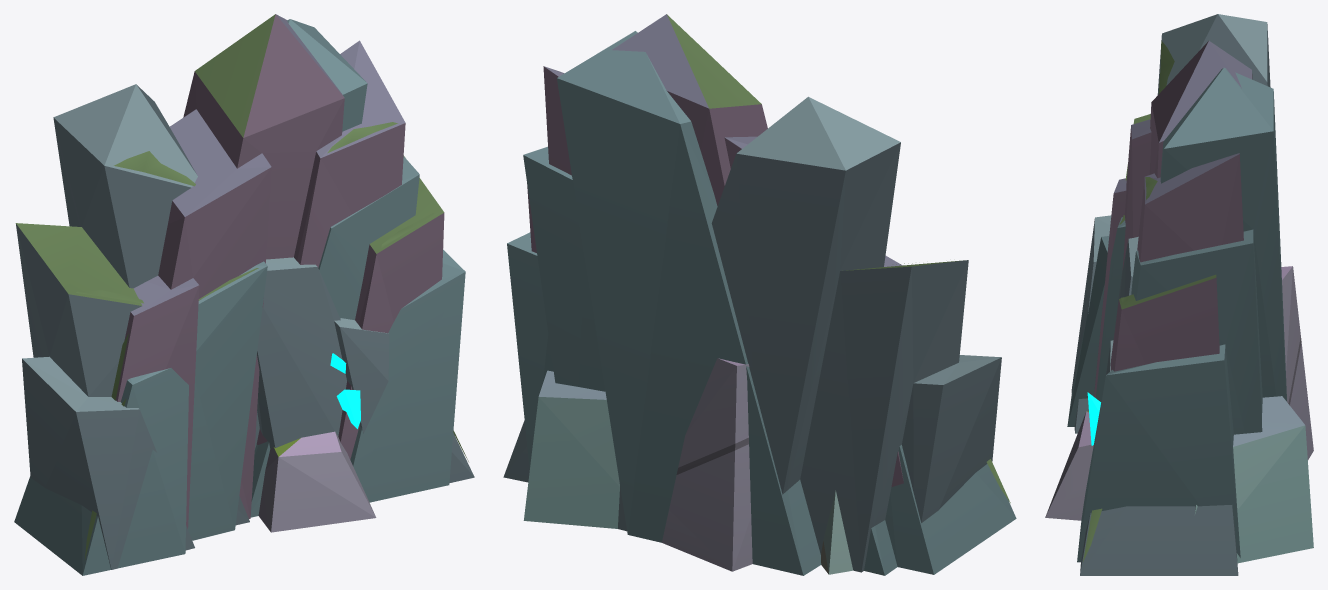
Rendered from cave_boulders_low.glb.
3 views of the same model, side by side, from view 1: azimuth 30°, elevation 25°; view 2: azimuth 150°, elevation 25°; view 3: azimuth 270°, elevation 25° (orthographic). The views are drawn at different scales.
Parts seen in each view (by area): view 1: boulder_c, boulder_b, boulder_a, boulder_d; view 2: boulder_a, boulder_c, boulder_d, boulder_b; view 3: boulder_a, boulder_b, boulder_c, boulder_d.
Boxes of the visible parts, <box> form: boulder_c: <box>15,84,474,569</box>; boulder_b: <box>111,14,444,528</box>; boulder_a: <box>14,19,465,575</box>; boulder_d: <box>258,431,376,532</box>; boulder_a: <box>507,31,1016,575</box>; boulder_c: <box>503,96,1001,572</box>; boulder_d: <box>523,358,853,574</box>; boulder_b: <box>527,14,903,487</box>; boulder_a: <box>1067,67,1286,562</box>; boulder_b: <box>1094,41,1252,397</box>; boulder_c: <box>1071,14,1270,575</box>; boulder_d: <box>1045,266,1313,563</box>.
Bounding box in the file's own units: 1.78 × 1.93 × 1.01.
